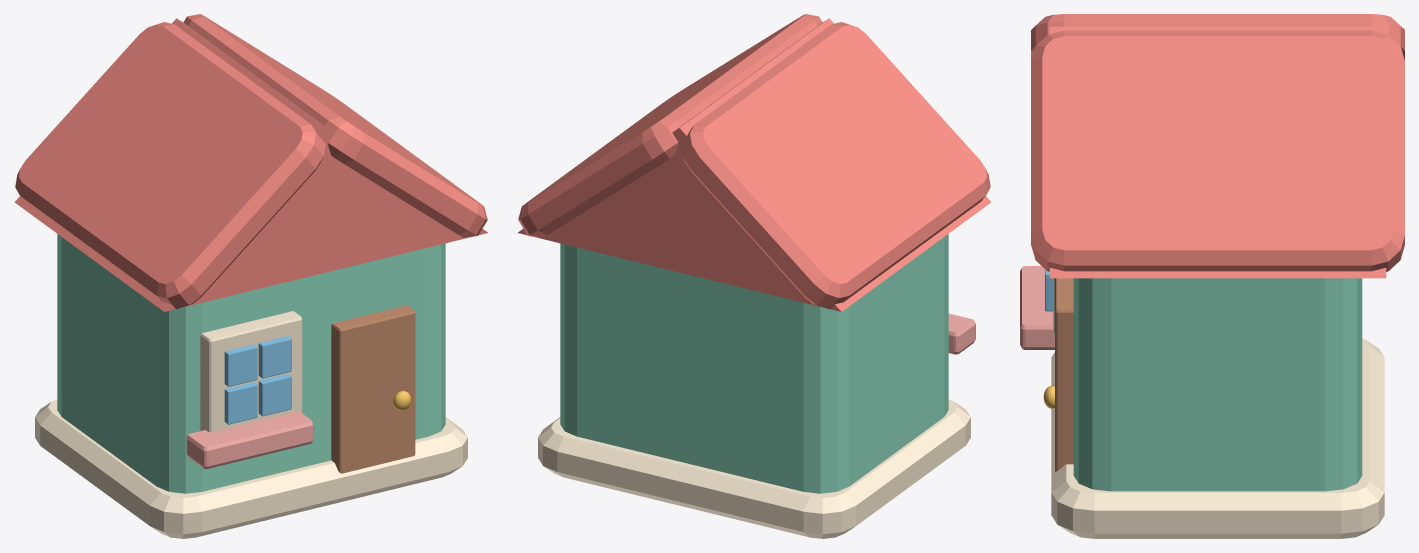
File: house_mint.glb
The picture shows the model from 3 angles, left to right: view 1: azimuth 30°, elevation 25°; view 2: azimuth 150°, elevation 25°; view 3: azimuth 270°, elevation 25°; orthographic projection. The views are drawn at different scales.
Visible parts, largest first — view 1: roof, walls, model, foundation, door, window_frame; view 2: walls, roof, model, foundation; view 3: roof, walls, foundation, model, door.
Boxes of the visible parts, x1=… form: roof: x1=15, y1=14, x2=487, y2=309; walls: x1=57, y1=234, x2=445, y2=493; model: x1=14, y1=18, x2=487, y2=468; foundation: x1=35, y1=399, x2=467, y2=538; door: x1=331, y1=305, x2=415, y2=473; window_frame: x1=200, y1=311, x2=302, y2=432; walls: x1=560, y1=234, x2=948, y2=493; roof: x1=518, y1=14, x2=990, y2=309; model: x1=518, y1=18, x2=991, y2=354; foundation: x1=538, y1=399, x2=970, y2=538; roof: x1=1031, y1=14, x2=1404, y2=271; walls: x1=1073, y1=278, x2=1362, y2=491; foundation: x1=1051, y1=338, x2=1384, y2=538; model: x1=1020, y1=26, x2=1386, y2=408; door: x1=1055, y1=278, x2=1073, y2=471.
Bounding box in the file's own units: 2.2 × 2.5 × 2.
